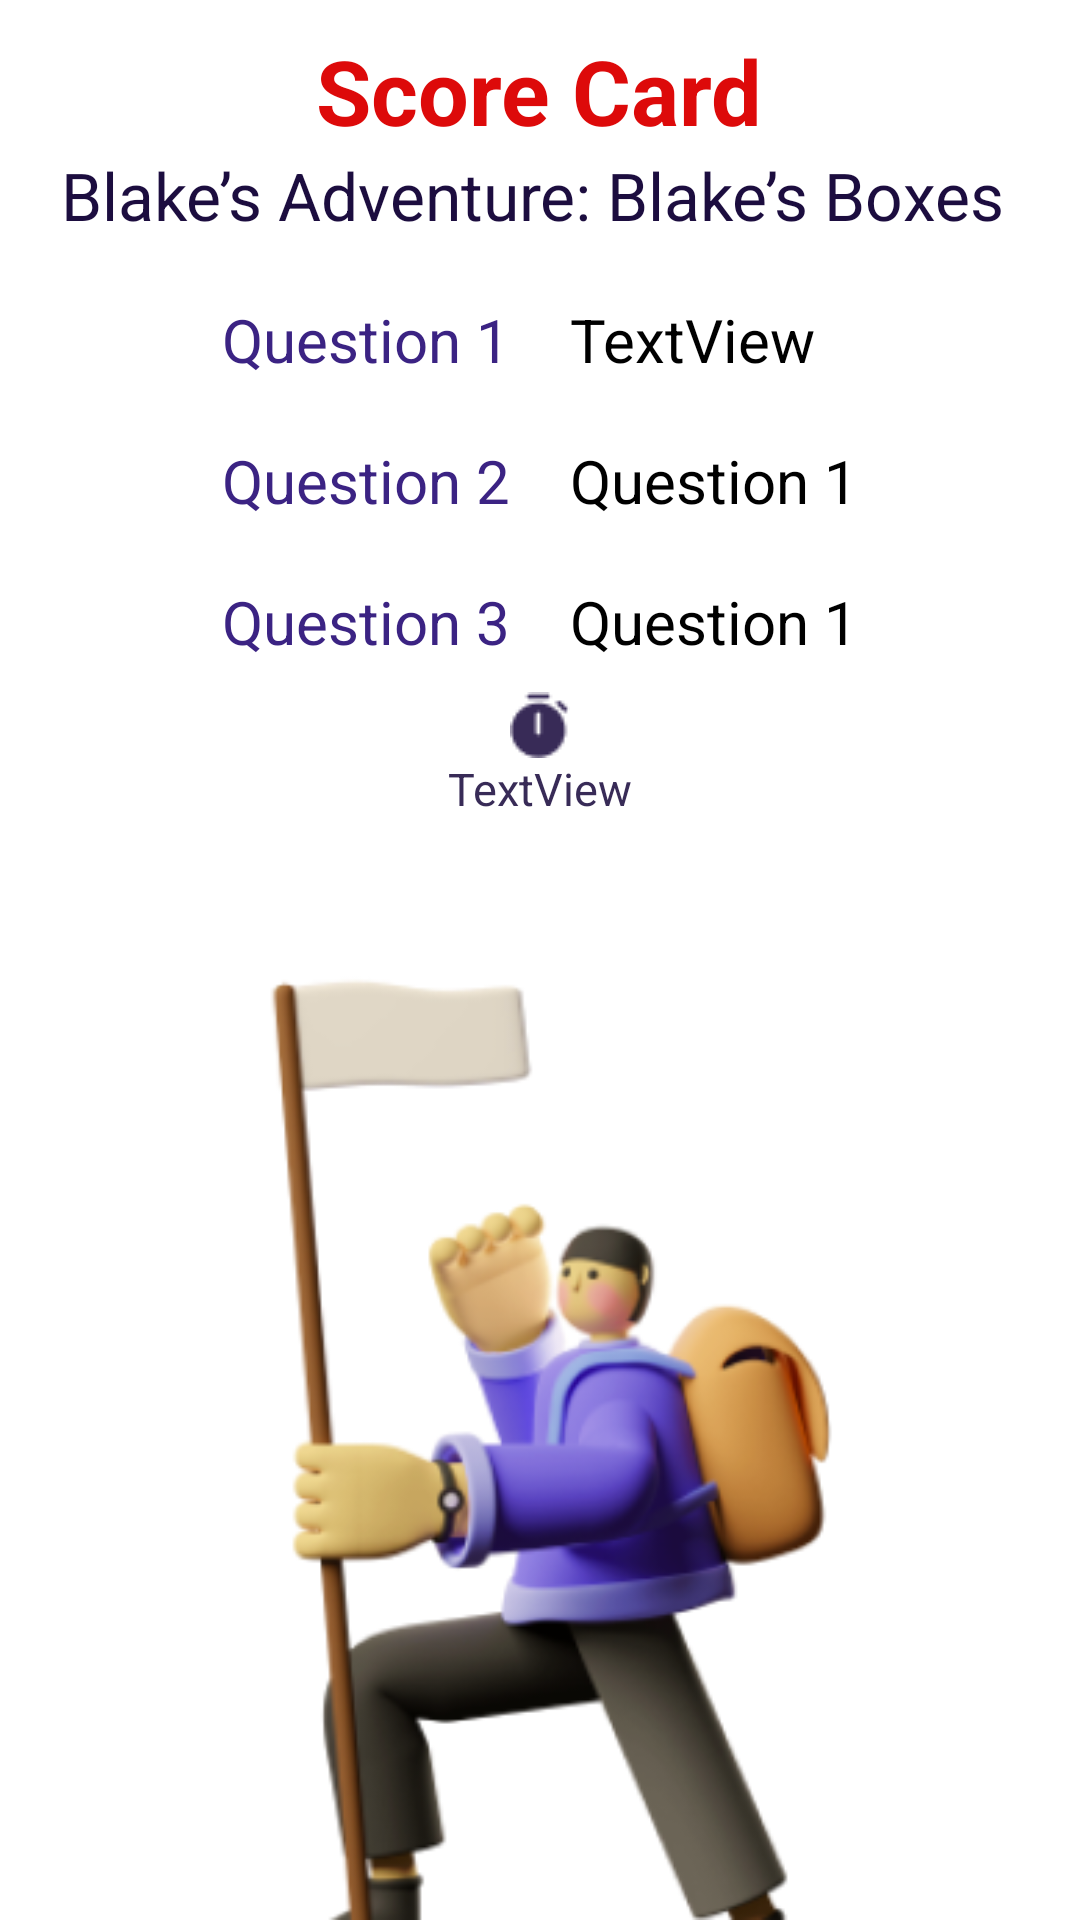

Named icons in this screenshot (1080px x 1920px) and their centers, (x,y):
time: (539,725)
